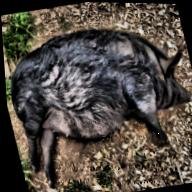boar: (1, 11, 192, 192)
